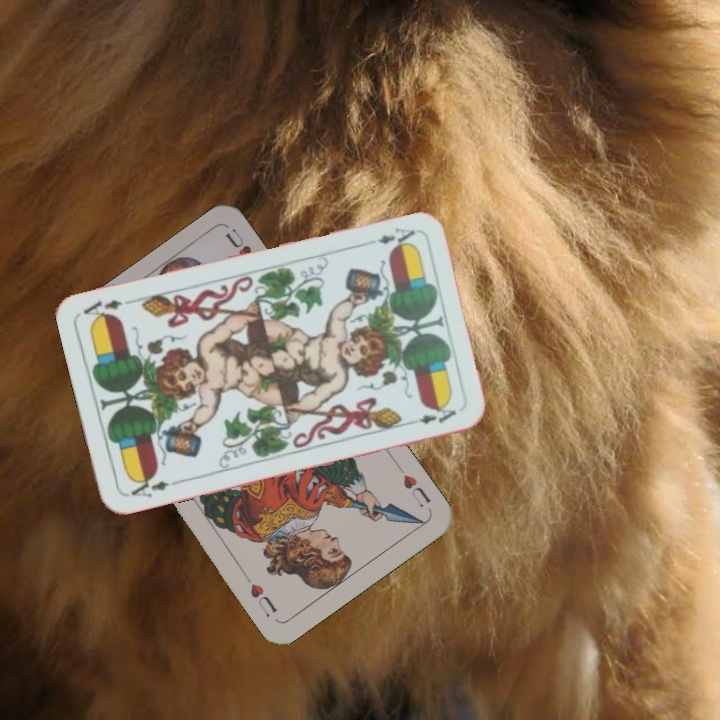EA: (123, 471, 172, 501), (373, 223, 418, 252)
HU: (399, 470, 434, 511)
